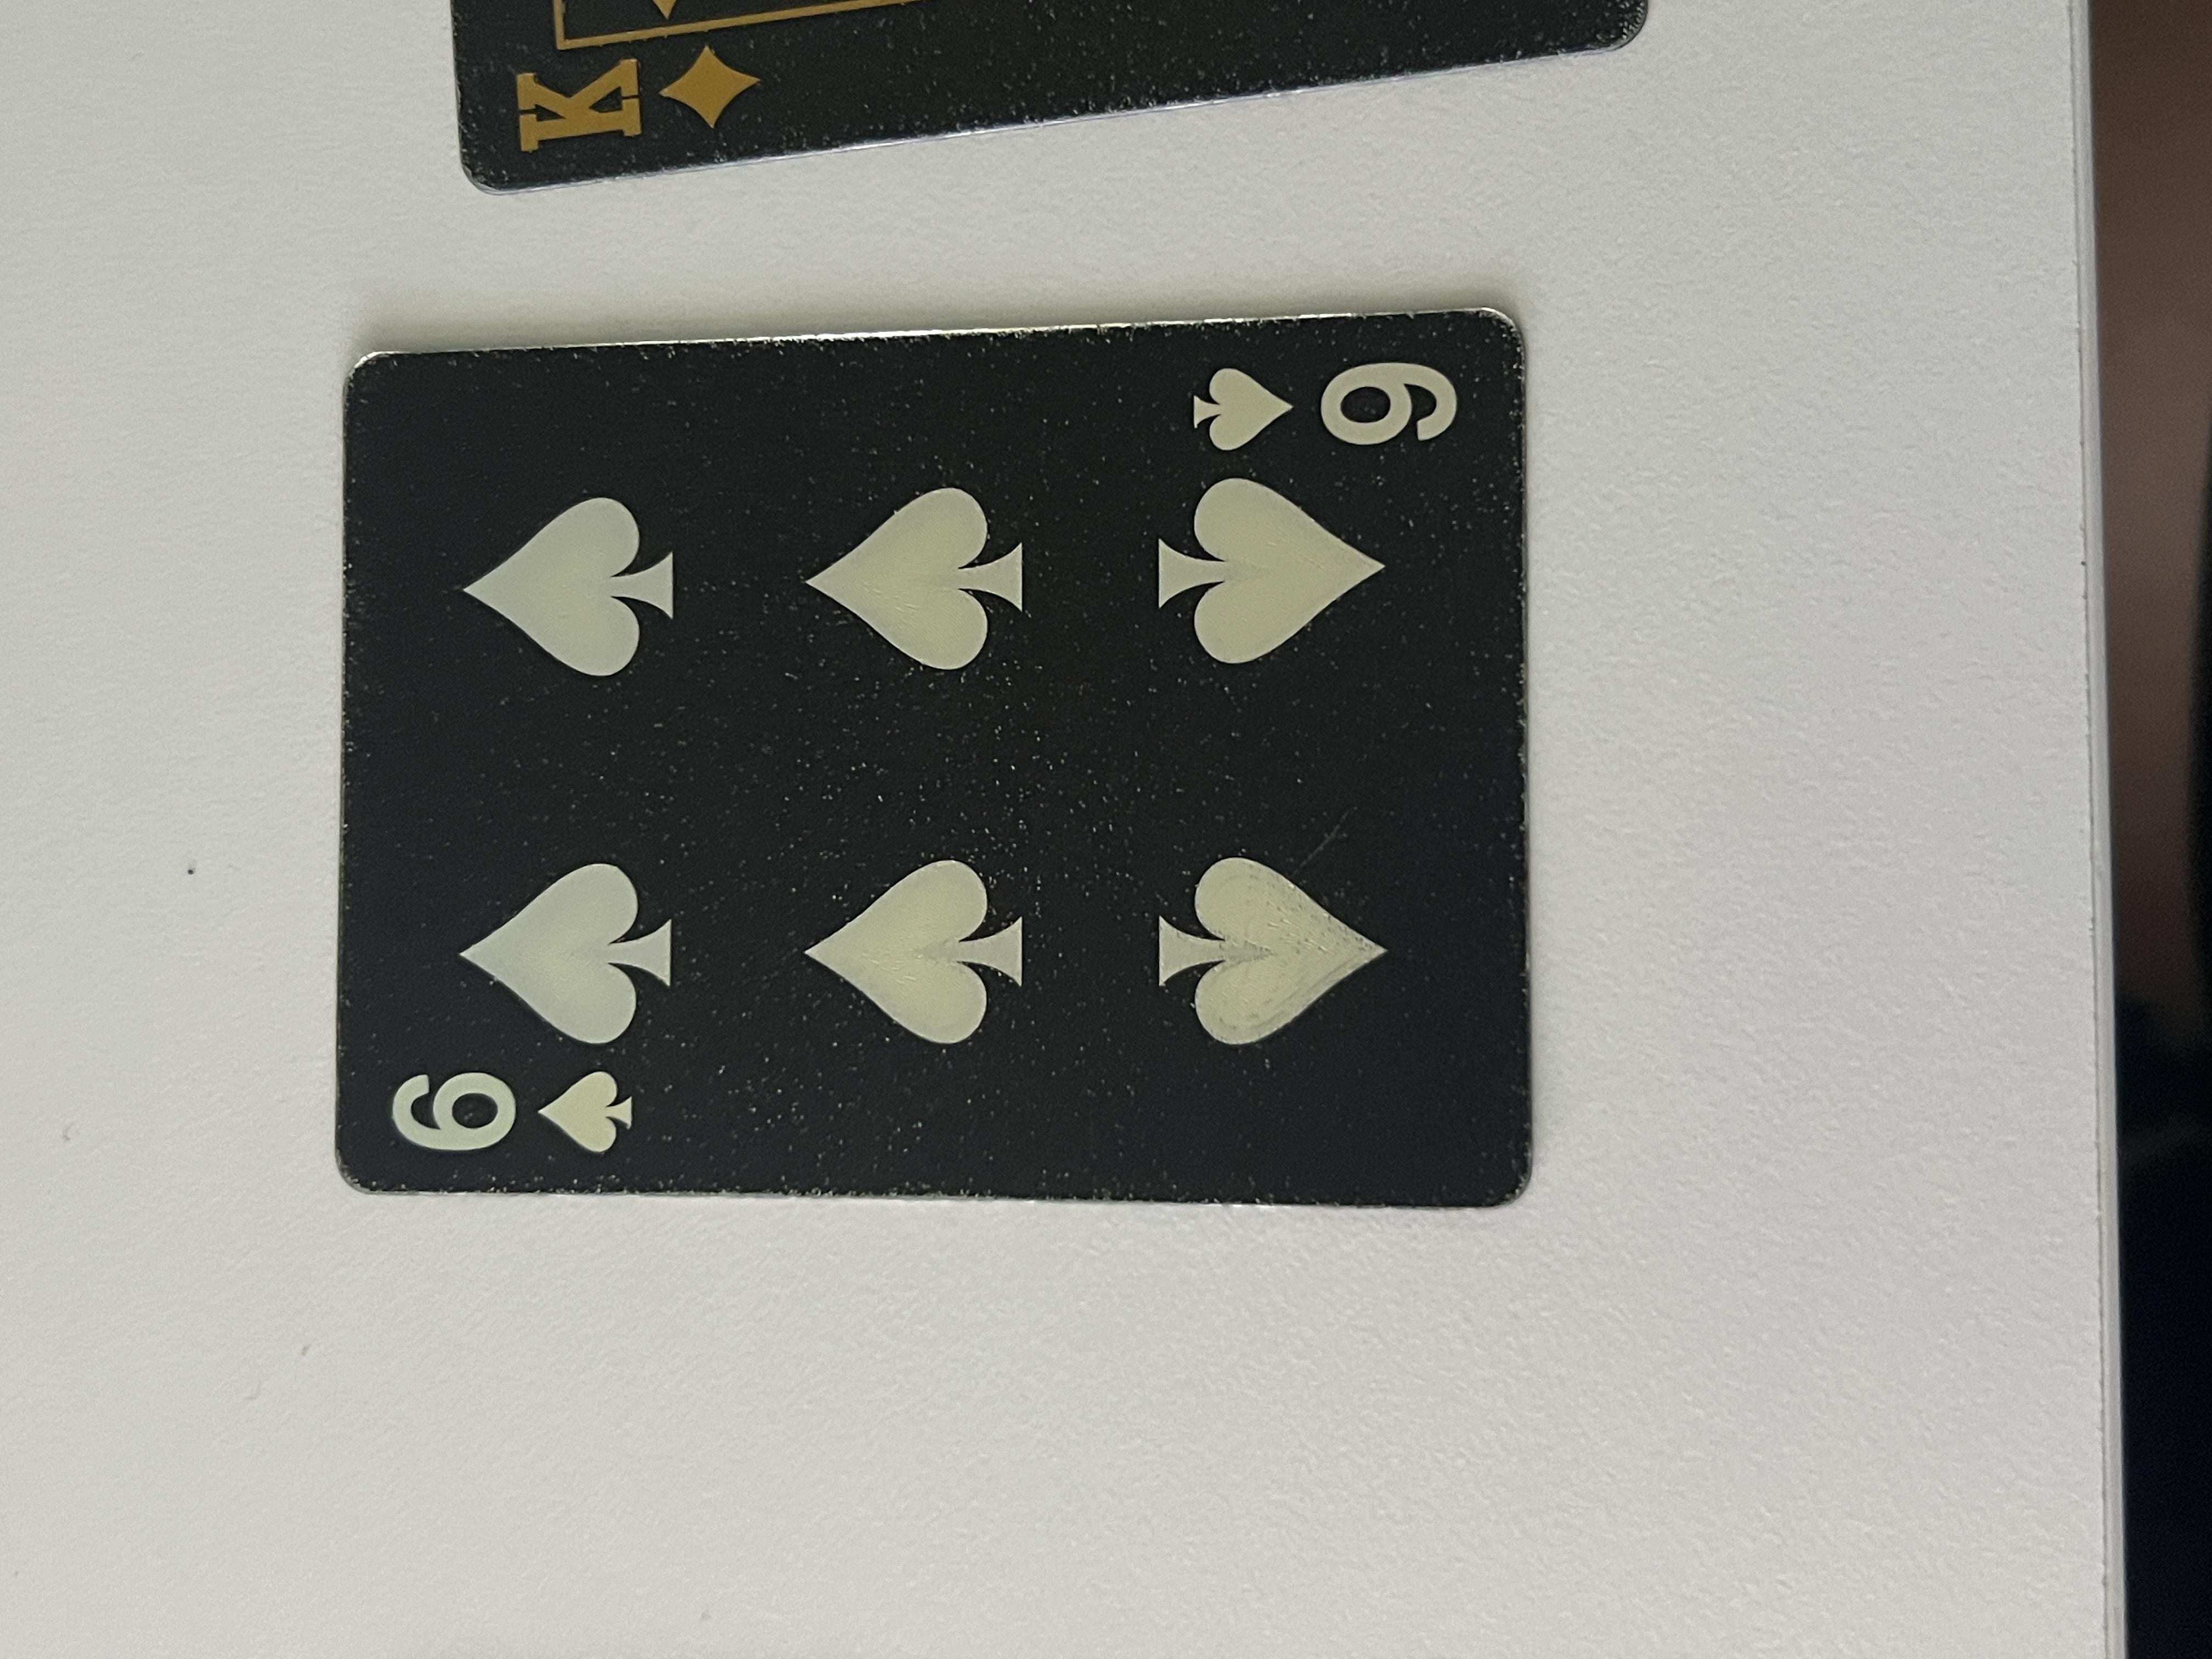6S: (1566, 878, 1759, 1129), (655, 282, 827, 481)
KD: (2015, 369, 2184, 561)
